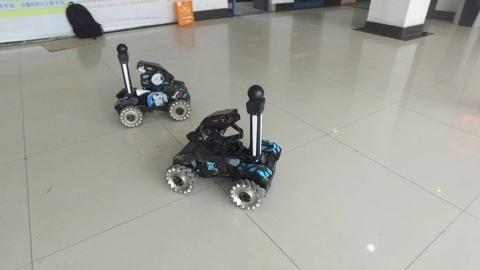bag: (63, 1, 105, 42)
chariot: (166, 80, 286, 211), (109, 41, 196, 129)
